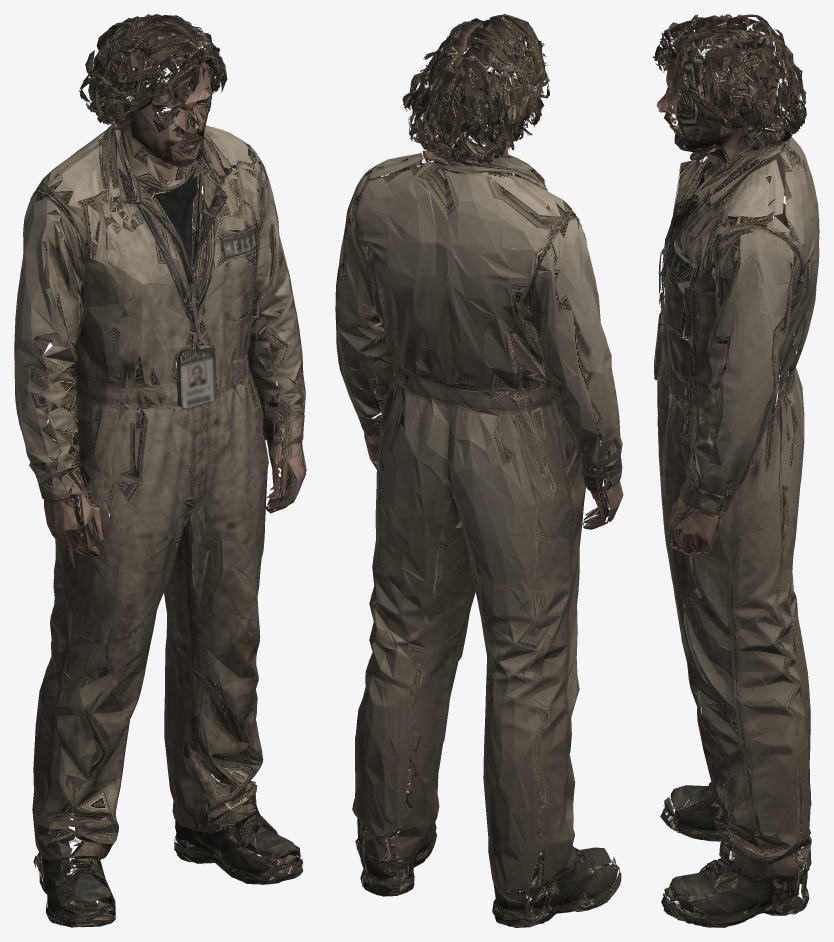
File: psychward_ia.glb
3 views of the same model, side by side, from view 1: azimuth 30°, elevation 25°; view 2: azimuth 150°, elevation 25°; view 3: azimuth 270°, elevation 25° (orthographic). The views are drawn at different scales.
Visible parts, largest first — view 1: geometry_0; view 2: geometry_0; view 3: geometry_0.
Part boxes in pixels (left/top/right/bottom): geometry_0: left=14, top=14, right=306, bottom=927; geometry_0: left=335, top=14, right=623, bottom=927; geometry_0: left=652, top=14, right=819, bottom=927.
Size of the model in its own units: 0.6356 by 1.9 by 0.3375.
Materials: 1 (1 with a texture image).
